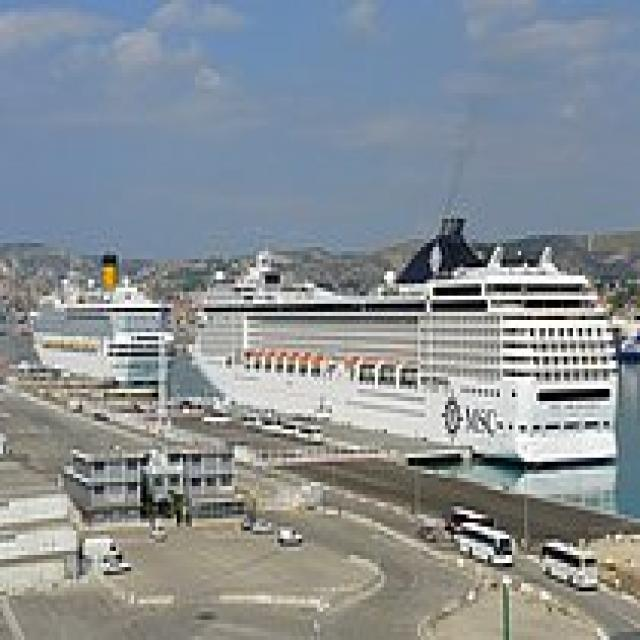Cruise: (174, 210, 618, 466), (21, 247, 171, 385)
